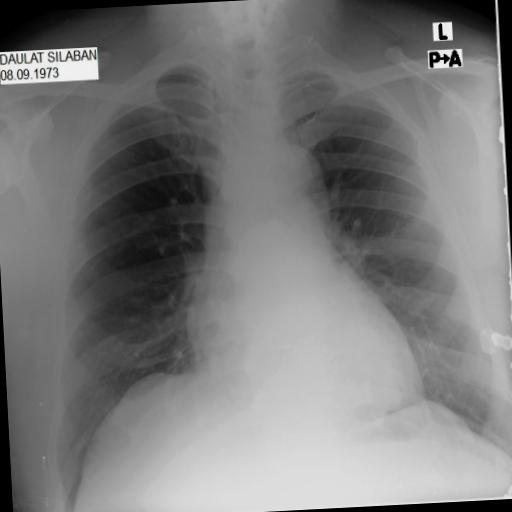kardiomegali: (26, 21, 512, 511)
